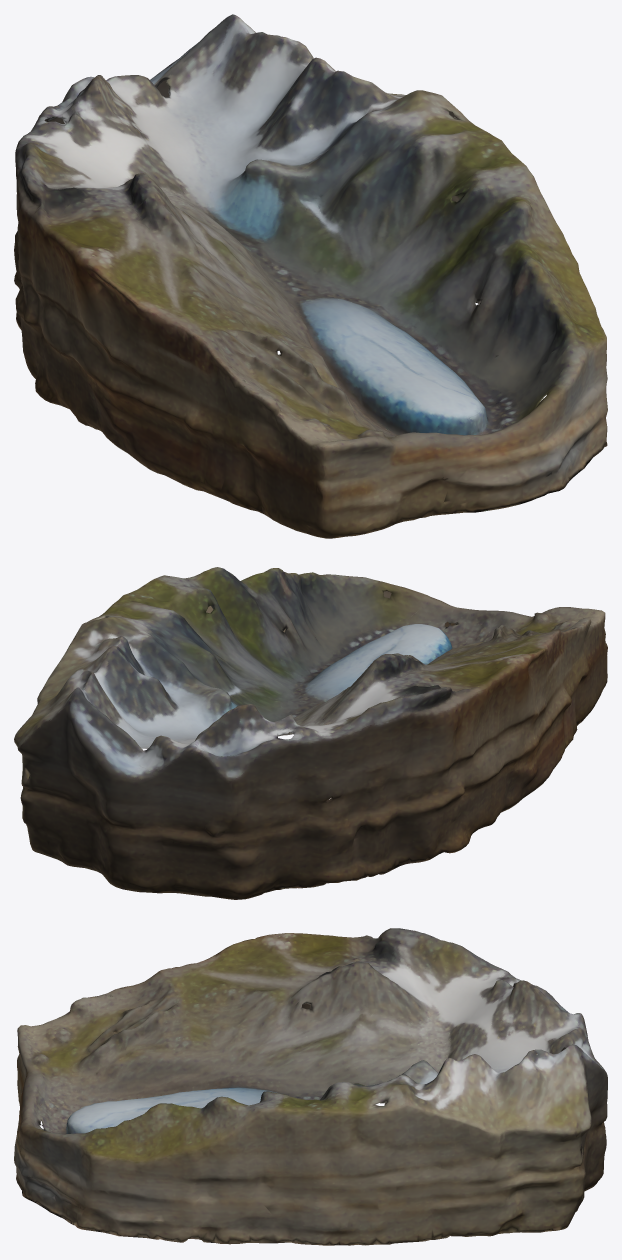
3 renders of one model, top to bottom at view 1: azimuth 30°, elevation 25°; view 2: azimuth 150°, elevation 25°; view 3: azimuth 270°, elevation 25°, orthographic. The views are drawn at different scales.
Parts seen in each view (by area): view 1: world; view 2: world; view 3: world.
Part boxes in pixels (x1,y1,x2,y2): world: (14, 14, 607, 538); world: (14, 567, 607, 899); world: (14, 928, 607, 1245).
Size of the model in its own units: 20.44 by 9.12 by 30.
1 material, 1 textured.
